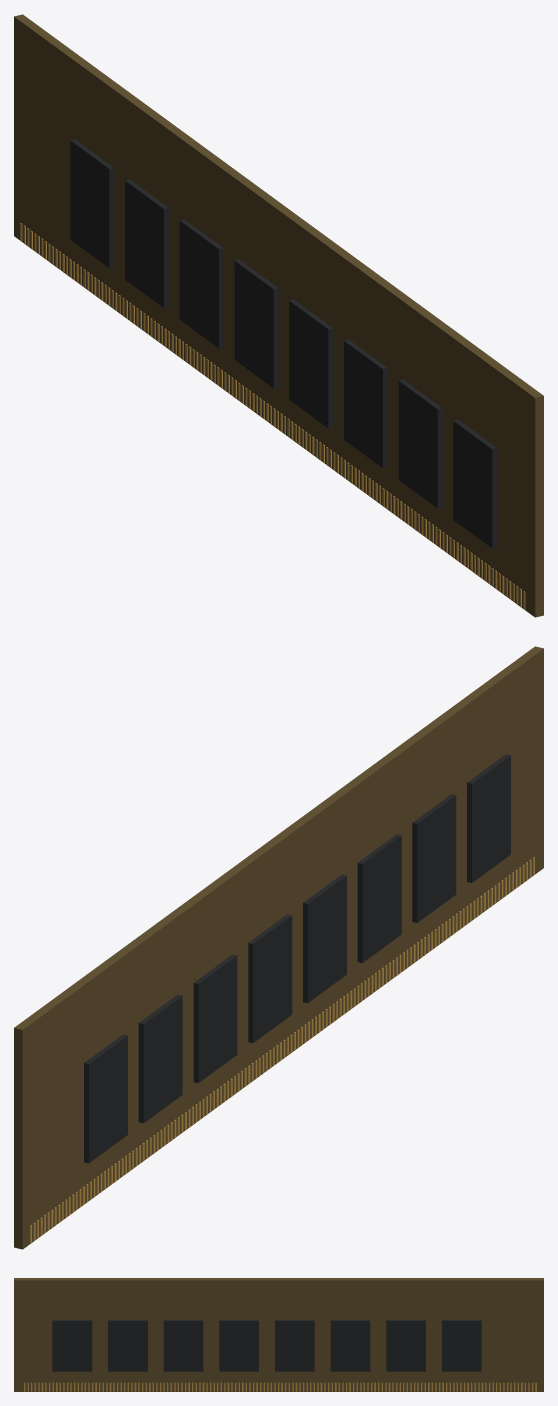
The model's file is L130_SERVICE_DDR5.fbx.
3 renders of one model, top to bottom at view 1: azimuth 30°, elevation 25°; view 2: azimuth 150°, elevation 25°; view 3: azimuth 270°, elevation 25°, orthographic. The views are drawn at different scales.
Parts seen in each view (by area): view 1: SERVICE_DDR5__FR4, SERVICE_DDR5__Chip, SERVICE_DDR5__Gold; view 2: SERVICE_DDR5__FR4, SERVICE_DDR5__Chip, SERVICE_DDR5__Gold; view 3: SERVICE_DDR5__FR4, SERVICE_DDR5__Chip, SERVICE_DDR5__Gold.
Boxes of the visible parts, <box> form: SERVICE_DDR5__FR4: <box>14,14,543,617</box>; SERVICE_DDR5__Chip: <box>70,139,497,548</box>; SERVICE_DDR5__Gold: <box>20,223,525,609</box>; SERVICE_DDR5__FR4: <box>14,646,543,1249</box>; SERVICE_DDR5__Chip: <box>84,754,510,1163</box>; SERVICE_DDR5__Gold: <box>30,857,534,1243</box>; SERVICE_DDR5__FR4: <box>14,1278,543,1391</box>; SERVICE_DDR5__Chip: <box>52,1320,481,1371</box>; SERVICE_DDR5__Gold: <box>24,1382,536,1391</box>.
Bounding box in the file's own units: 2.75 × 31 × 133.
